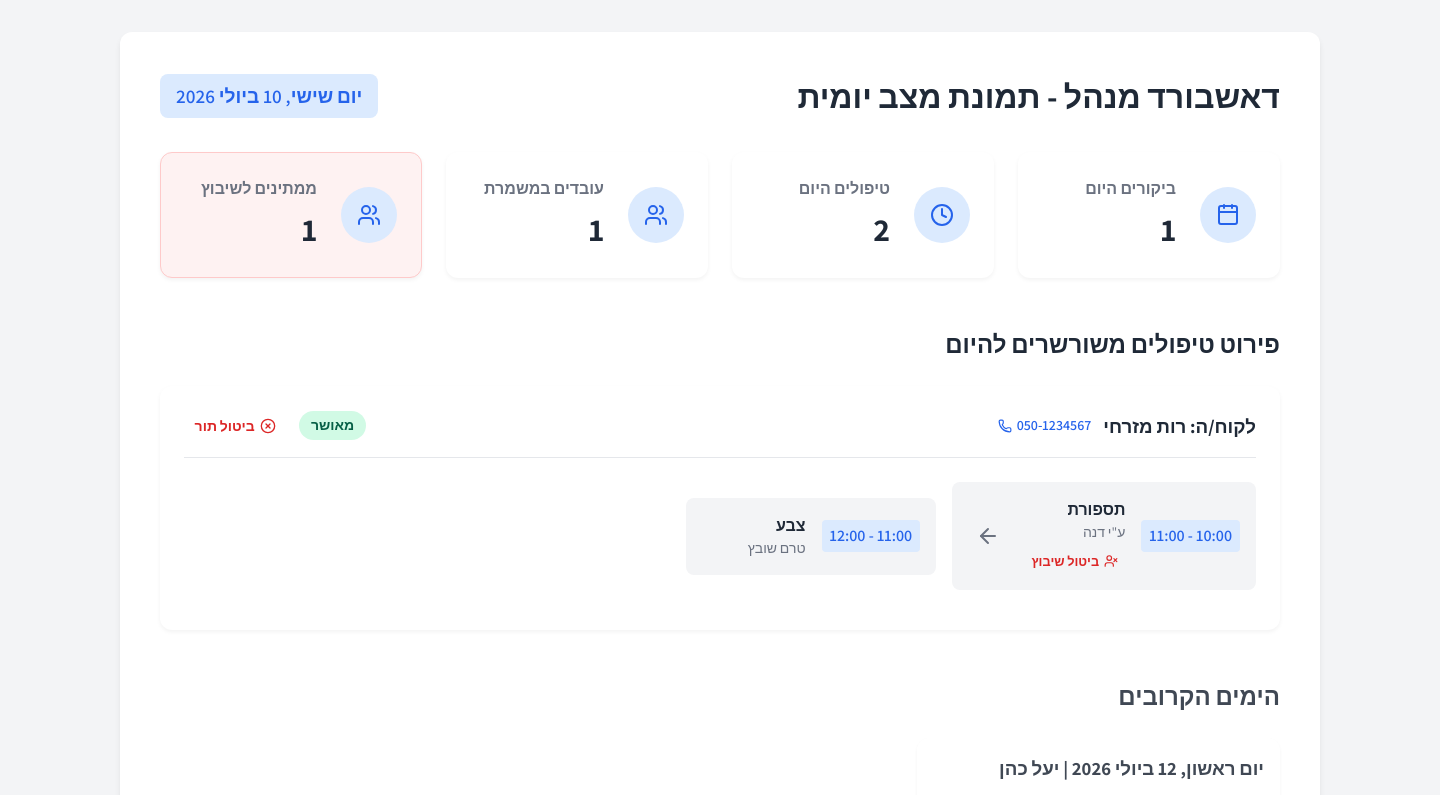
Test: ManagerDashboardPage › unassigning an item › surfaces a friendly error and refetches when the unassign fails
Expected: the heading "לקוח/ה: רות מזרחי" is shown, [1103,412,1256,440]
Click the button "ביטול שיבוץ": x=1075, y=562 [1024,549,1125,574]
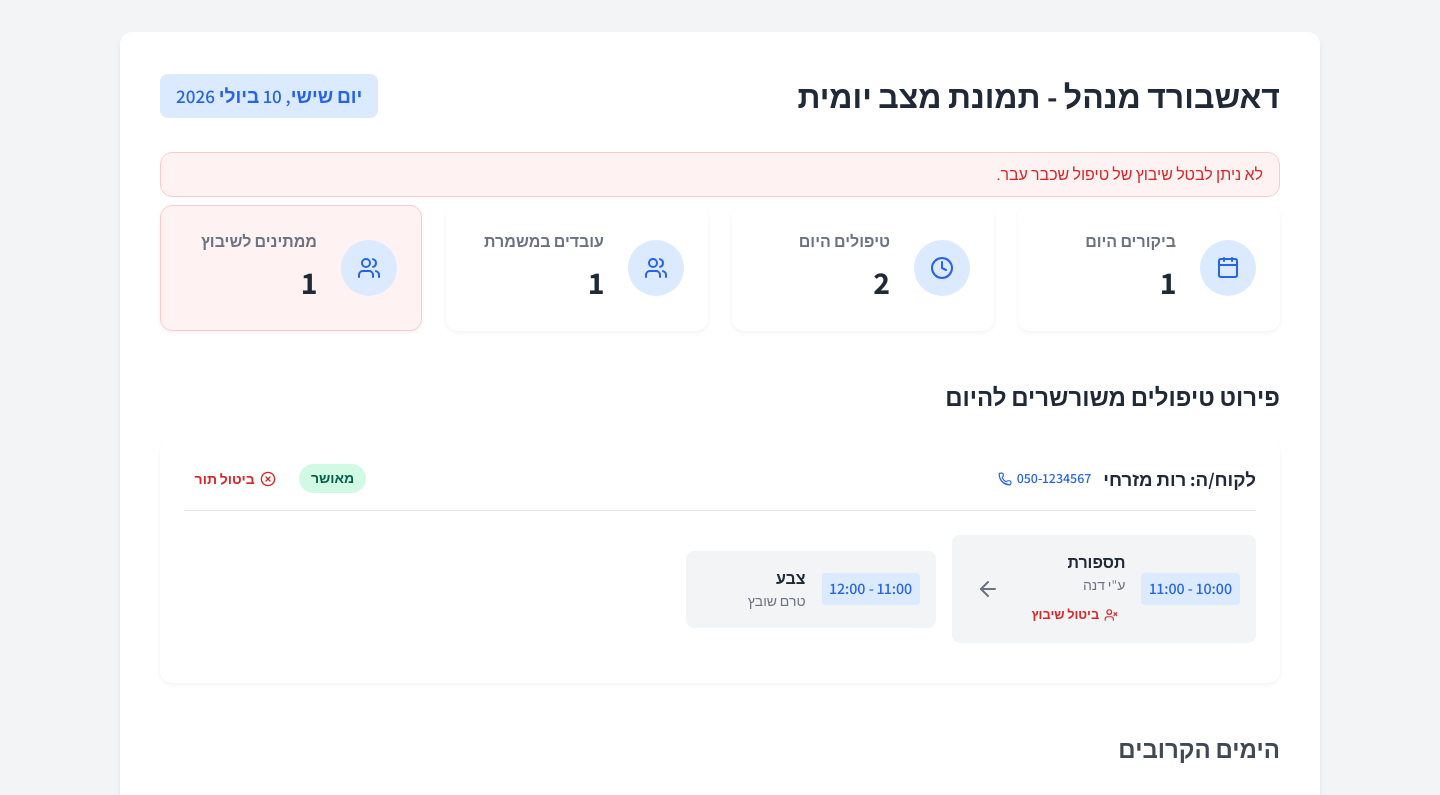
Result: the text "לא ניתן לבטל שיבוץ של טיפול שכבר עבר." is shown at [160,152,1280,197]
